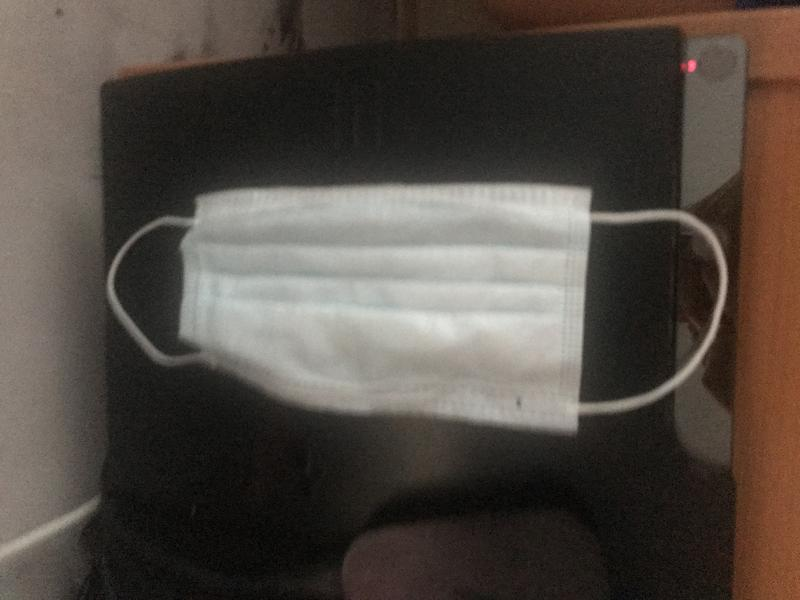medical_mask: (106, 182, 728, 432)
